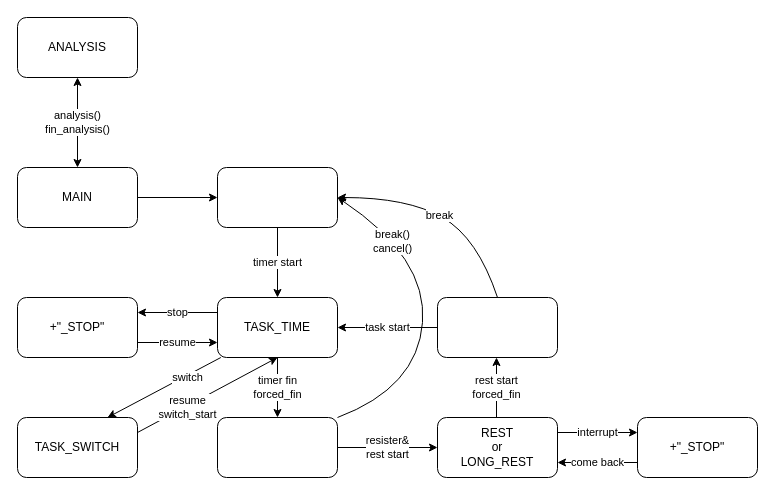
Image size: 775x495. Some labels were removed from this diagram. The centre of each missing label's shape, as x and y in pixels:
"IDLE" belongs at pixel 277 197.
"REST_FIN" belongs at pixel 497 327.
"TASK_FIN" belongs at pixel 277 447.
